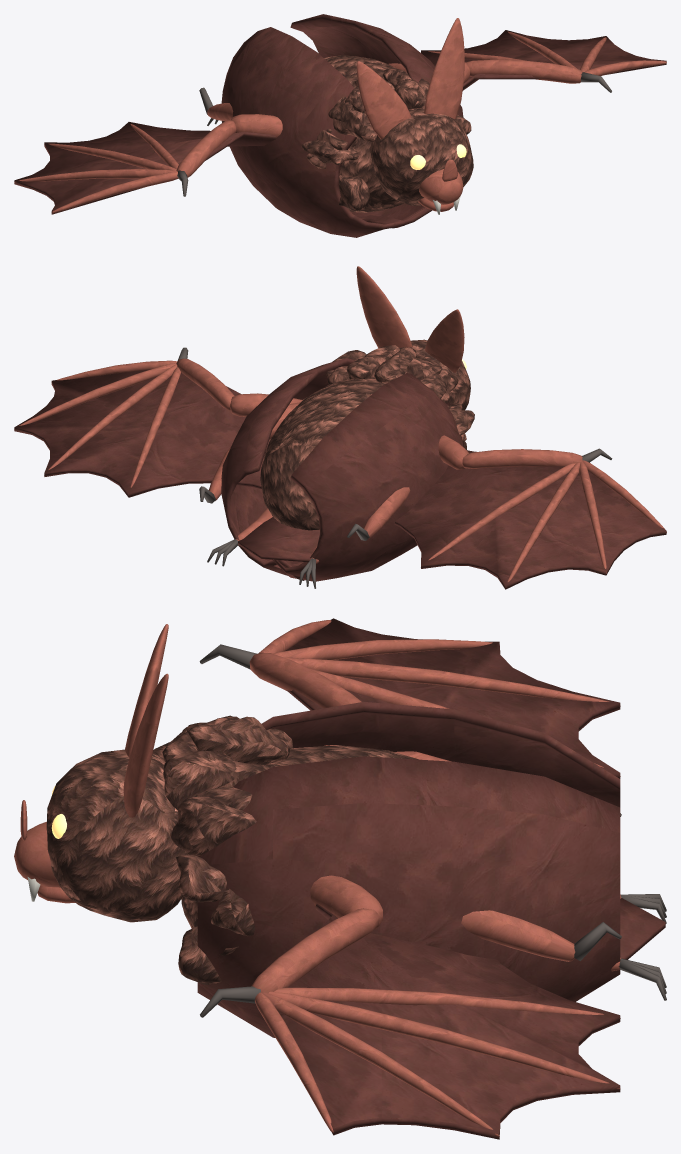
Rendered from cave_bat_v2.glb.
The picture shows the model from 3 angles, top to bottom: view 1: azimuth 30°, elevation 25°; view 2: azimuth 150°, elevation 25°; view 3: azimuth 270°, elevation 25°; orthographic projection. The views are drawn at different scales.
Visible parts, largest first — view 1: body, fold_l, wing_l, wing_r, fold_r; view 2: wing_l, wing_r, fold_l, body, fold_r; view 3: fold_r, wing_r, body, wing_l, fold_l.
Part boxes in pixels (x1,y1,x2,y2): body: [207, 18, 473, 214]; fold_l: [199, 27, 404, 237]; wing_l: [14, 114, 282, 214]; wing_r: [421, 30, 666, 92]; fold_r: [290, 14, 463, 228]; wing_l: [394, 435, 666, 589]; wing_r: [14, 347, 302, 497]; fold_l: [272, 372, 464, 581]; body: [207, 266, 474, 588]; fold_r: [199, 358, 355, 580]; fold_r: [197, 756, 621, 1037]; wing_r: [200, 875, 620, 1139]; body: [14, 624, 666, 1000]; wing_l: [199, 618, 620, 778]; fold_l: [261, 702, 621, 816].
Size of the model in its own units: 1.6 by 0.5859 by 0.8651.
Materials: 6 (3 with a texture image).
